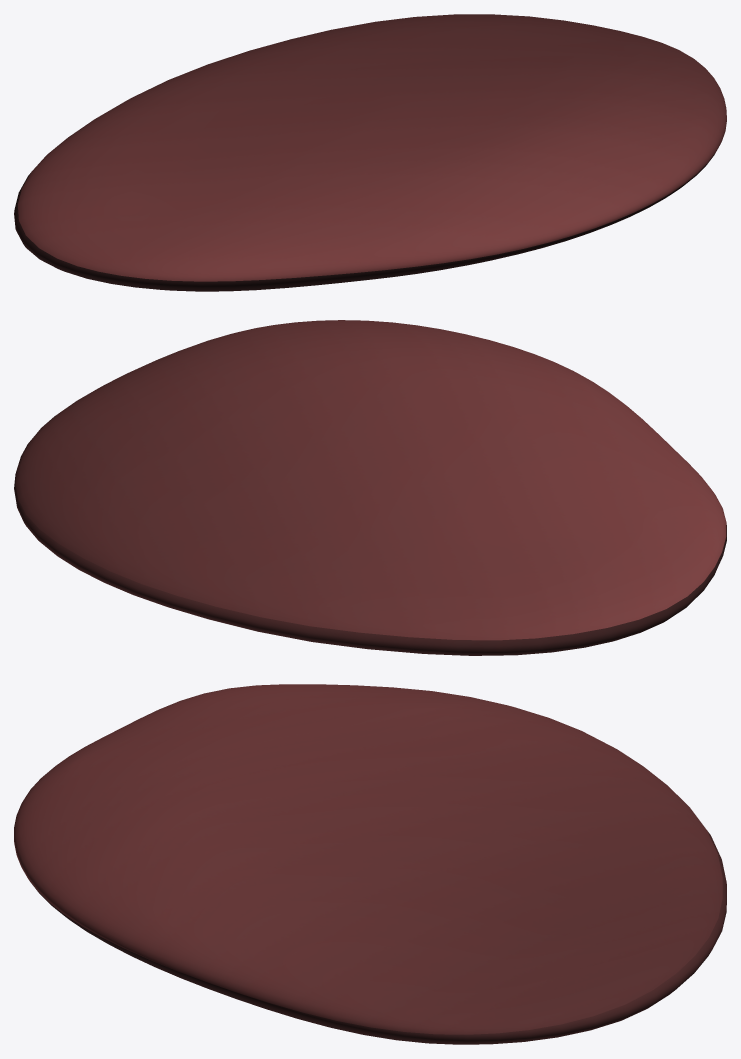
File: common.glb
3 views of the same model, one above another, from view 1: azimuth 30°, elevation 25°; view 2: azimuth 150°, elevation 25°; view 3: azimuth 270°, elevation 25° (orthographic). The views are drawn at different scales.
Visible parts, largest first — view 1: c3_tong; view 2: c3_tong; view 3: c3_tong.
Part boxes in pixels (left/top/right/bottom): c3_tong: left=14, top=14, right=726, bottom=291; c3_tong: left=14, top=320, right=726, bottom=655; c3_tong: left=14, top=684, right=726, bottom=1044.
Bounding box in the file's own units: 0.1388 × 0.0269 × 0.1128.
1 material, 1 textured.
